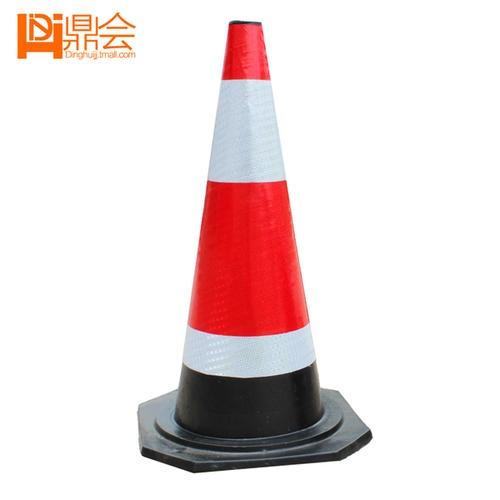cone_barrel: (150, 25, 343, 449)
